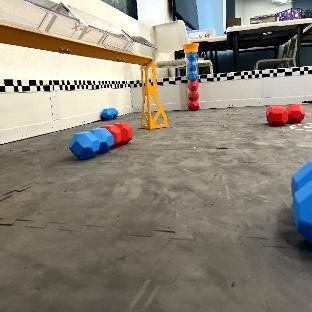Goal: (0, 2, 167, 129)
V5_BLUE: (291, 161, 312, 244), (70, 128, 115, 159), (101, 108, 117, 120)
V5_RED: (267, 104, 304, 126), (103, 122, 132, 146), (189, 81, 197, 100)
